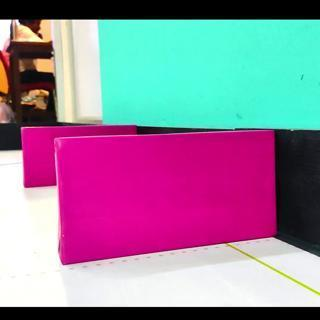xparking: (60, 136, 274, 264), (24, 128, 56, 186)
